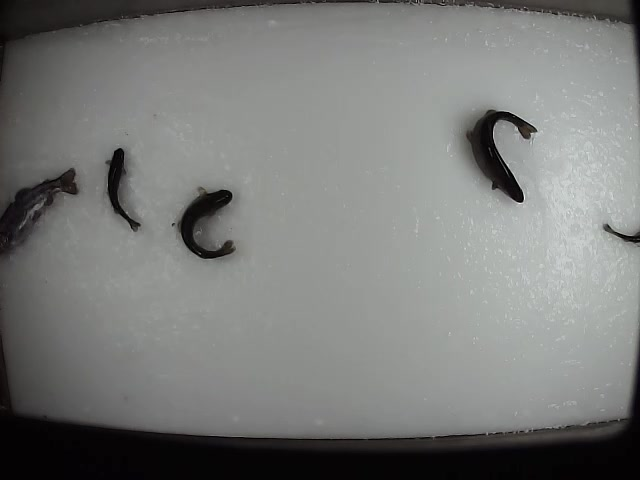fish: (462, 106, 539, 204), (1, 165, 80, 255), (177, 184, 238, 261), (104, 146, 143, 233)
